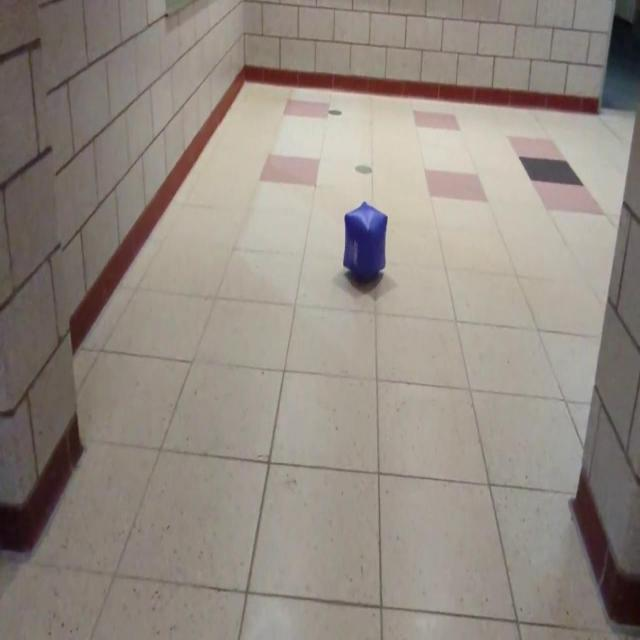frc_cube: (341, 200, 389, 280)
